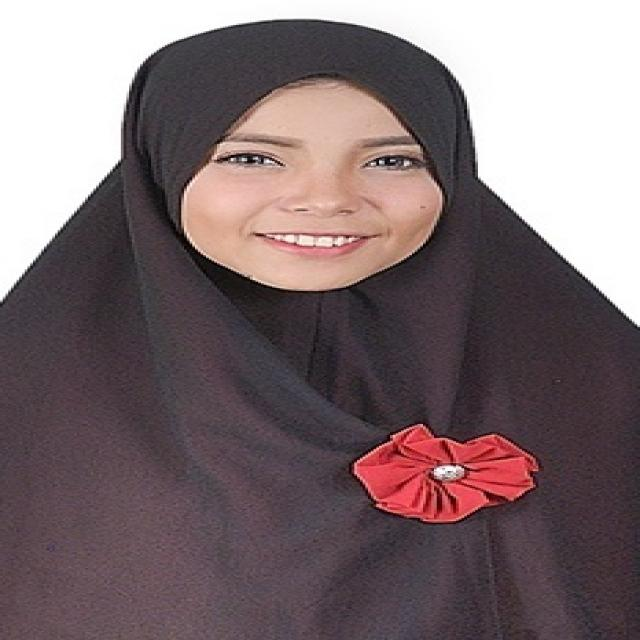head: (129, 21, 518, 302)
